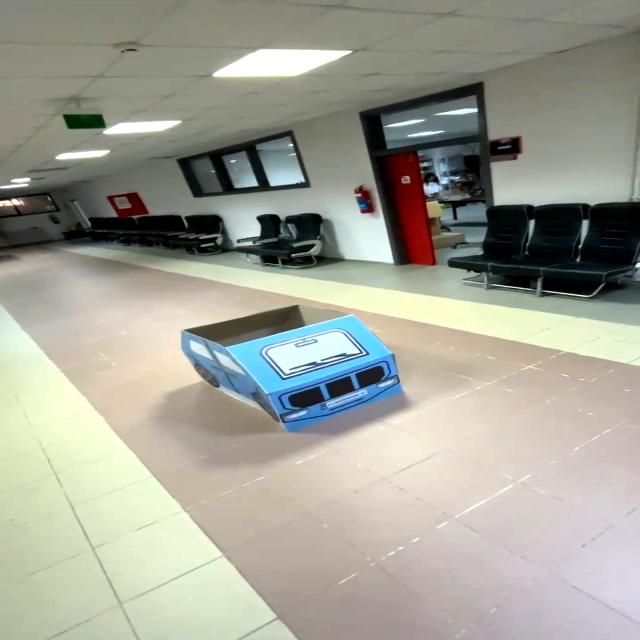blue_car: (160, 298, 424, 447)
